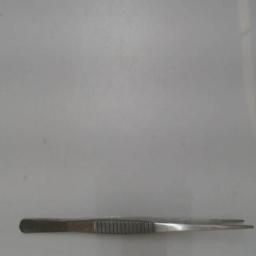DeBakey Dissector: (6, 208, 254, 246)
